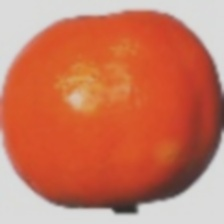tangerine: (28, 39, 206, 223)
